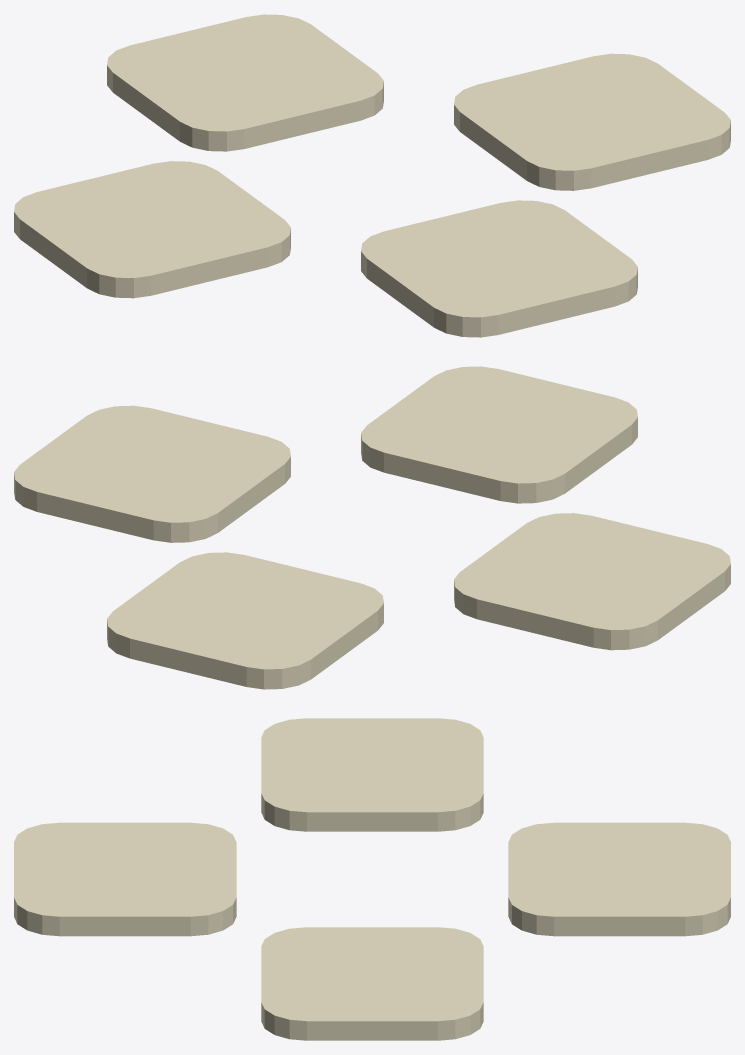
Rendered from movecase1.fbx.
3 views of the same model, one above another, from view 1: azimuth 30°, elevation 25°; view 2: azimuth 150°, elevation 25°; view 3: azimuth 270°, elevation 25° (orthographic). The views are drawn at different scales.
Visible parts, largest first — view 1: bottom1, top1, right1, left1; view 2: bottom1, top1, right1, left1; view 3: bottom1, top1, right1, left1.
Part boxes in pixels (x1=…): bottom1: x1=361, y1=200, x2=637, y2=337; top1: x1=107, y1=14, x2=383, y2=151; right1: x1=454, y1=53, x2=730, y2=190; left1: x1=14, y1=161, x2=290, y2=298; bottom1: x1=361, y1=366, x2=637, y2=503; top1: x1=107, y1=552, x2=383, y2=689; right1: x1=14, y1=405, x2=290, y2=542; left1: x1=454, y1=513, x2=730, y2=650; bottom1: x1=14, y1=822, x2=236, y2=936; top1: x1=508, y1=822, x2=730, y2=936; right1: x1=261, y1=927, x2=483, y2=1040; left1: x1=261, y1=718, x2=483, y2=831.
Bounding box in the file's own units: 580 × 17.43 × 580.
